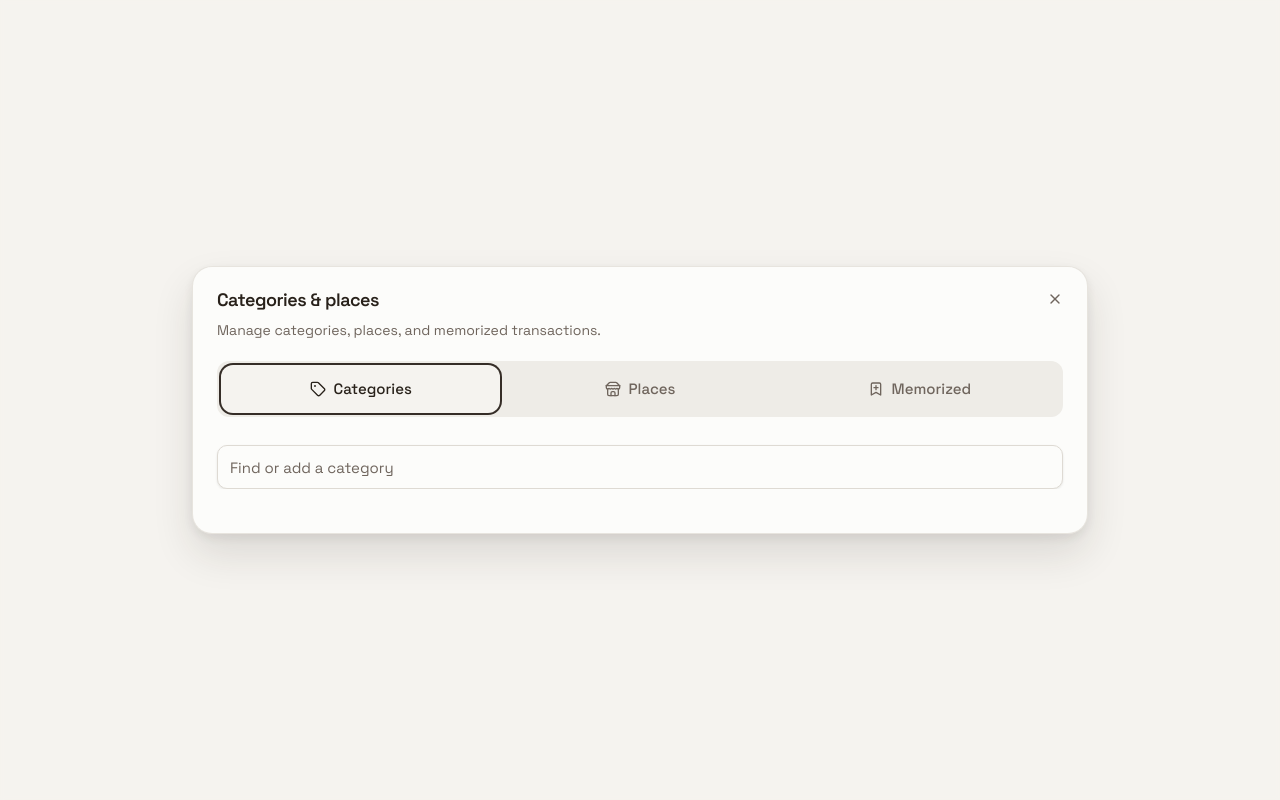
Test case: categories and places manager (MOB-R91 D) › Memorized keeps its actions as rows: 44px buttons, no list box scrolling inside the dialog
Step 1. Click the button "Memorized" → (919, 389), box [782,367,1057,411]
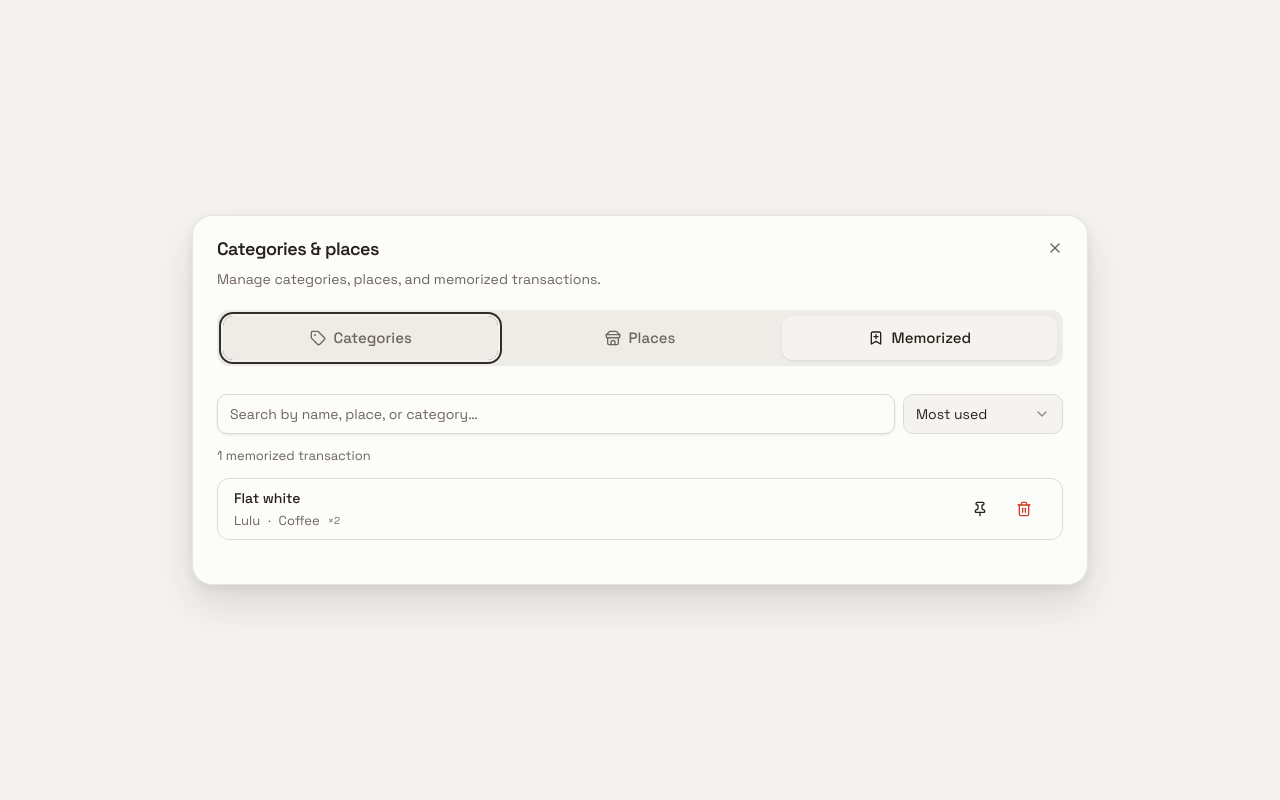
Expected: the text "Flat white" is shown, [234,487,300,509]
